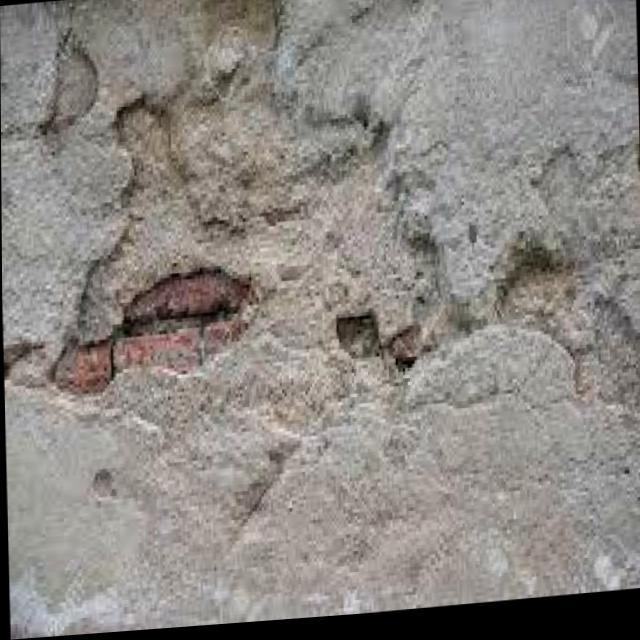Crack: (5, 226, 640, 431)
